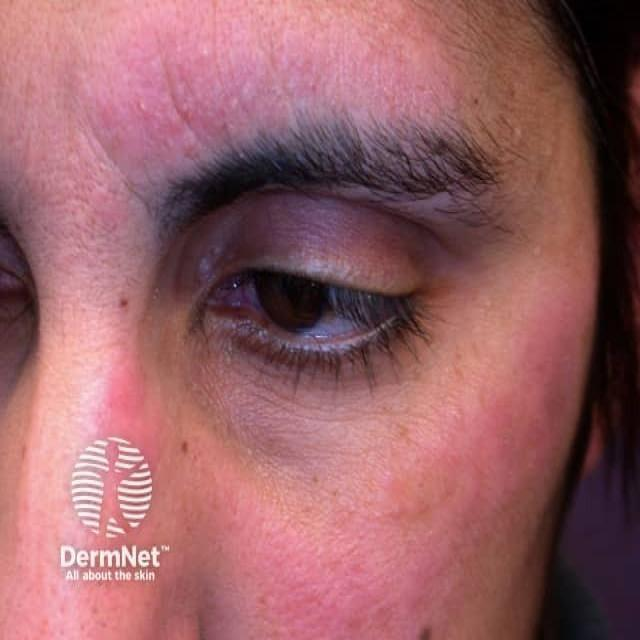Eczema: (96, 304, 576, 638), (96, 32, 454, 147)
